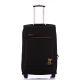luggage: (19, 2, 62, 80)
